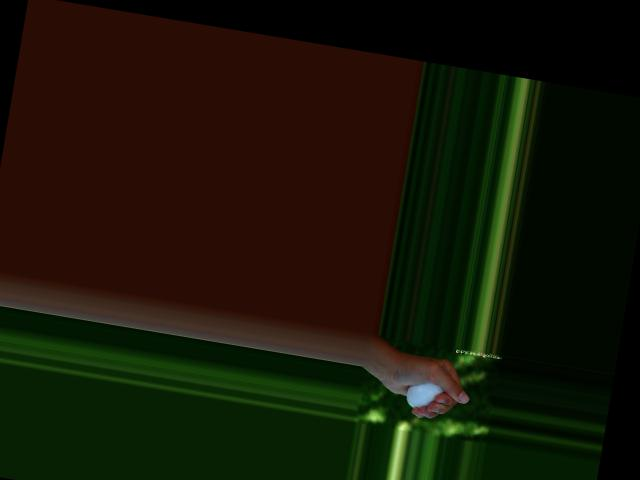egg: (405, 379, 446, 412)
